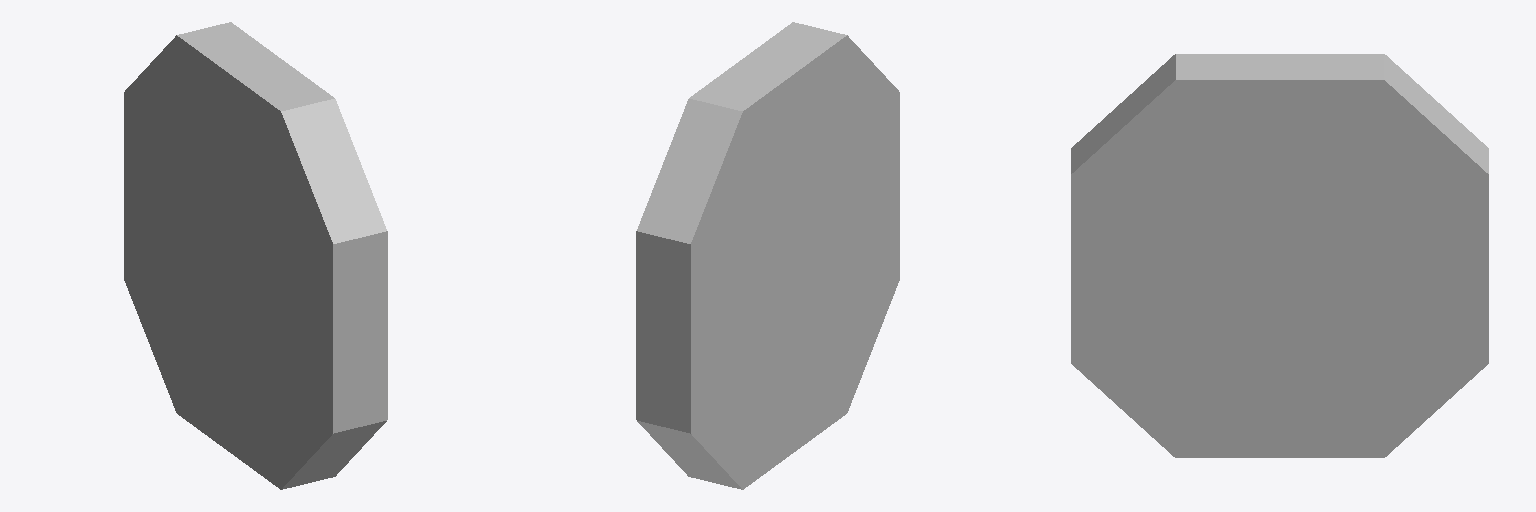
The model's file is PlayerBorad0414.obj.
3 renders of one model, left to right at view 1: azimuth 30°, elevation 25°; view 2: azimuth 150°, elevation 25°; view 3: azimuth 270°, elevation 25°, orthographic.
Parts seen in each view (by area): view 1: 立方体.006; view 2: 立方体.006; view 3: 立方体.006.
Part boxes in pixels (x1,y1,x2,y2): 立方体.006: (124, 22, 387, 489); 立方体.006: (636, 22, 899, 489); 立方体.006: (1071, 54, 1488, 457).
Bounding box in the file's own units: 2.25 × 15 × 15.